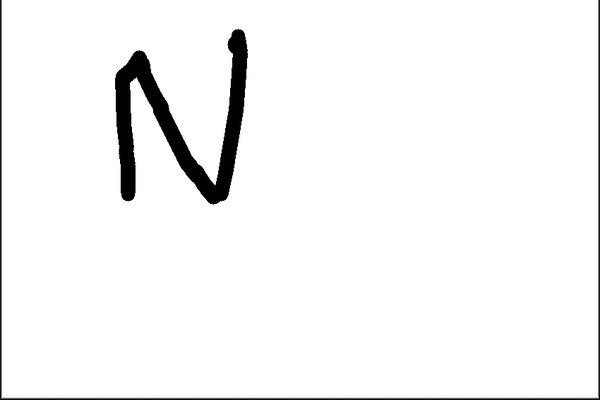N: (108, 23, 248, 207)
